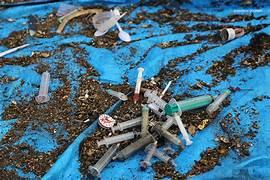Syringe: (113, 134, 154, 160), (88, 144, 119, 176), (152, 124, 183, 147), (206, 90, 231, 117), (173, 113, 192, 144), (97, 132, 138, 146), (111, 117, 142, 133), (35, 71, 49, 103), (140, 141, 156, 169), (133, 67, 143, 102), (153, 148, 174, 163), (106, 89, 127, 100), (141, 105, 148, 136), (162, 116, 176, 129), (160, 81, 171, 97)
